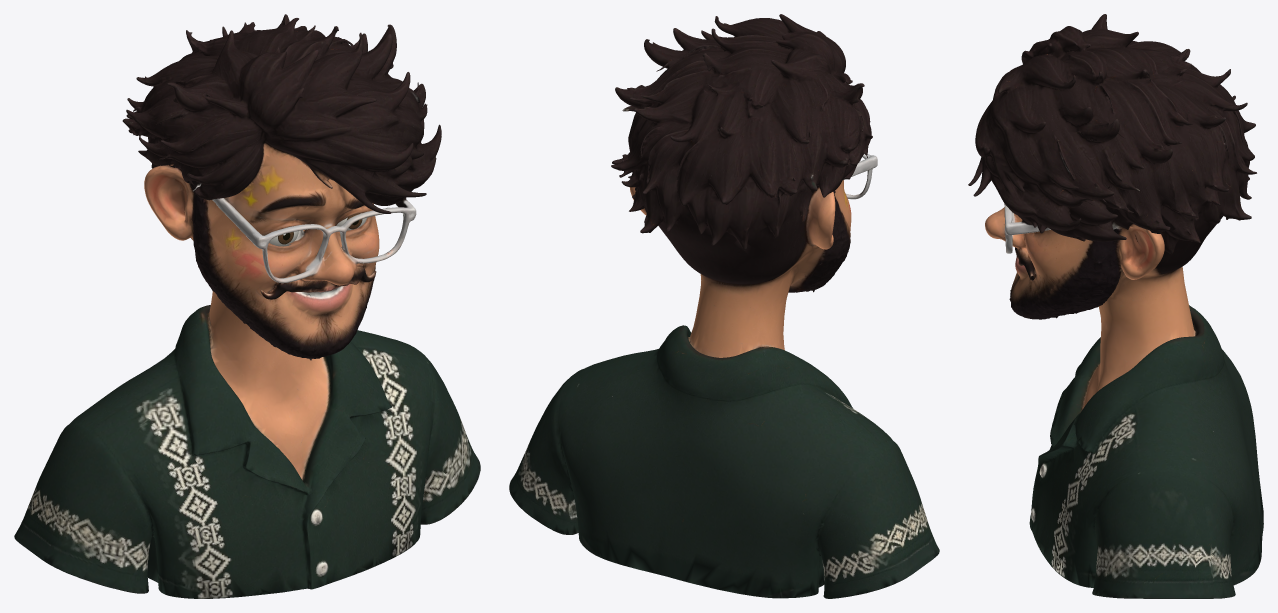
3 views of the same model, side by side, from view 1: azimuth 30°, elevation 25°; view 2: azimuth 150°, elevation 25°; view 3: azimuth 270°, elevation 25° (orthographic). The views are drawn at different scales.
Parts seen in each view (by area): view 1: BodhiAvatar; view 2: BodhiAvatar; view 3: BodhiAvatar.
Part boxes in pixels (x1,y1,x2,y2): BodhiAvatar: (14,14,480,598); BodhiAvatar: (509,14,939,598); BodhiAvatar: (968,14,1263,598).
Size of the model in its own units: 1.3 by 1.52 by 0.8331.
Materials: 6 (5 with a texture image).
